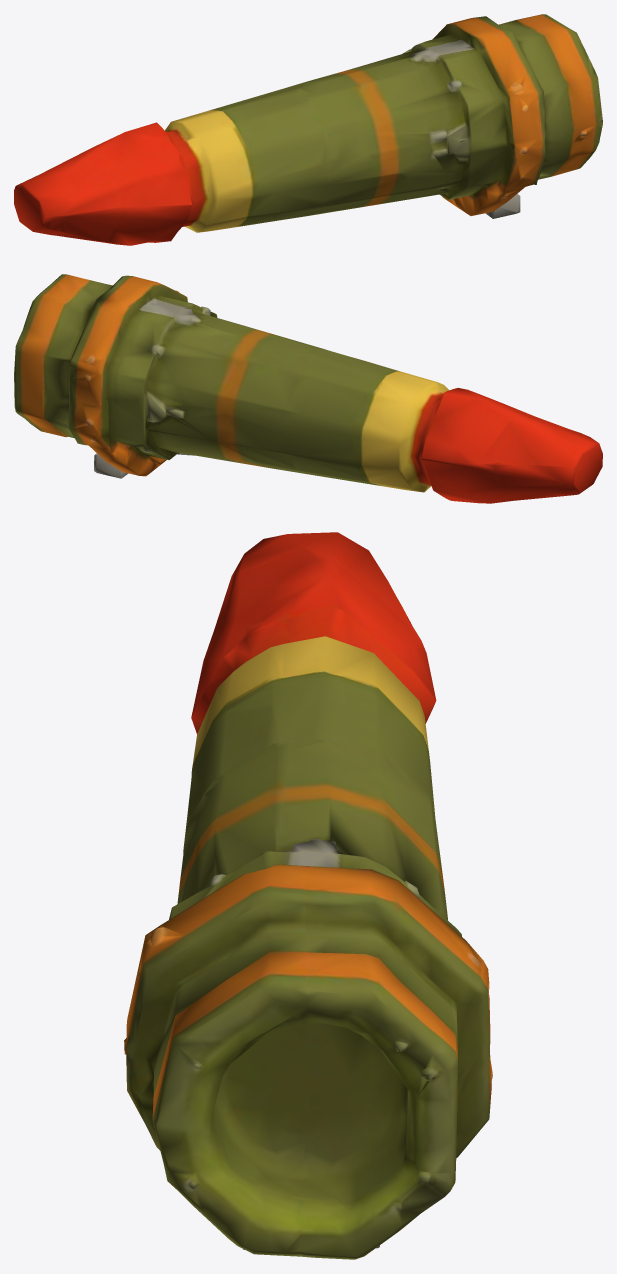
File: rocket.glb
The picture shows the model from 3 angles, top to bottom: view 1: azimuth 30°, elevation 25°; view 2: azimuth 150°, elevation 25°; view 3: azimuth 270°, elevation 25°; orthographic projection. The views are drawn at different scales.
Visible parts, largest first — view 1: tripo_node_2e9af561-dc2a-4111-a0b9-ba26a48e97dc; view 2: tripo_node_2e9af561-dc2a-4111-a0b9-ba26a48e97dc; view 3: tripo_node_2e9af561-dc2a-4111-a0b9-ba26a48e97dc.
Part boxes in pixels (<box>): tripo_node_2e9af561-dc2a-4111-a0b9-ba26a48e97dc: <box>14,14,602,245</box>; tripo_node_2e9af561-dc2a-4111-a0b9-ba26a48e97dc: <box>14,274,602,503</box>; tripo_node_2e9af561-dc2a-4111-a0b9-ba26a48e97dc: <box>124,532,492,1259</box>.
Bounding box in the file's own units: 0.9994 × 0.3154 × 0.2957.
1 material, 1 textured.
